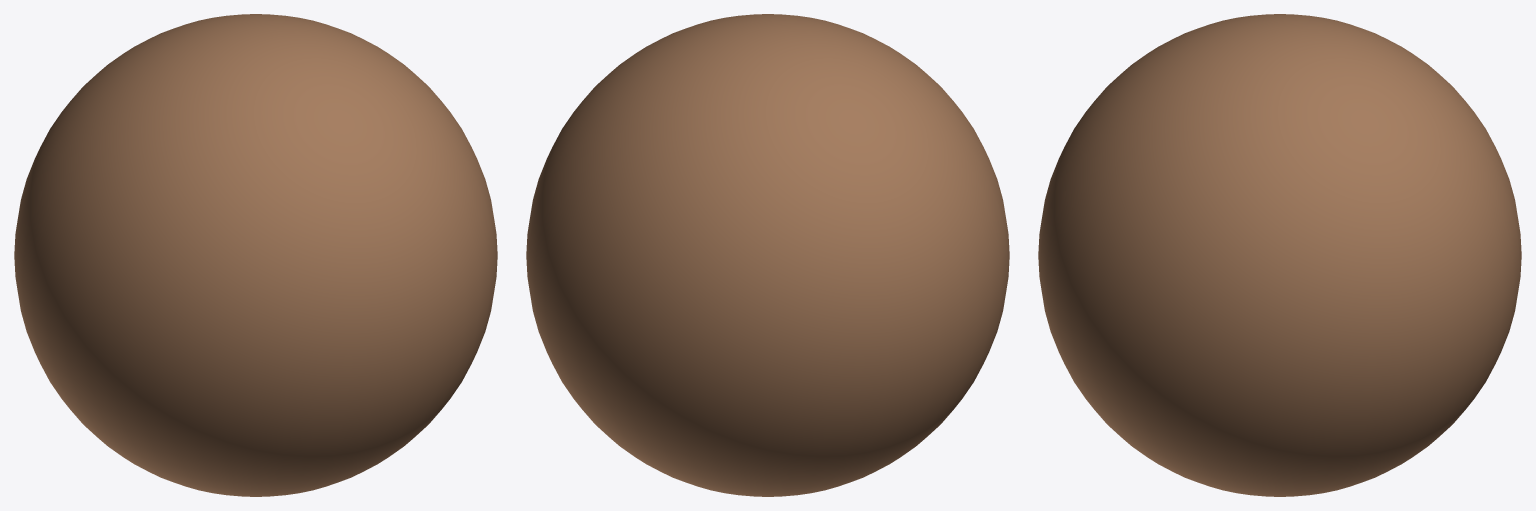
File: planet_1.obj
3 views of the same model, side by side, from view 1: azimuth 30°, elevation 25°; view 2: azimuth 150°, elevation 25°; view 3: azimuth 270°, elevation 25° (orthographic).
Parts seen in each view (by area): view 1: planet_1; view 2: planet_1; view 3: planet_1.
Part boxes in pixels (x1=…): planet_1: x1=14, y1=14, x2=497, y2=496; planet_1: x1=526, y1=14, x2=1009, y2=496; planet_1: x1=1038, y1=14, x2=1521, y2=496.
Bounding box in the file's own units: 2 × 2 × 2.
